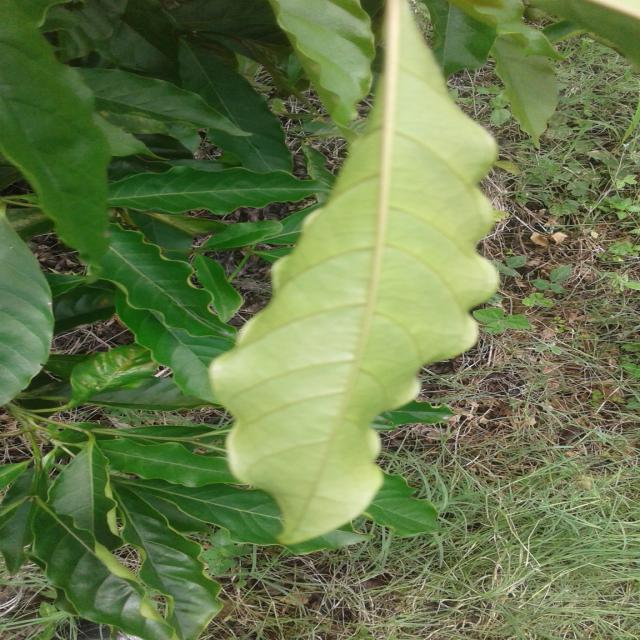Sanas: (207, 0, 500, 550)
